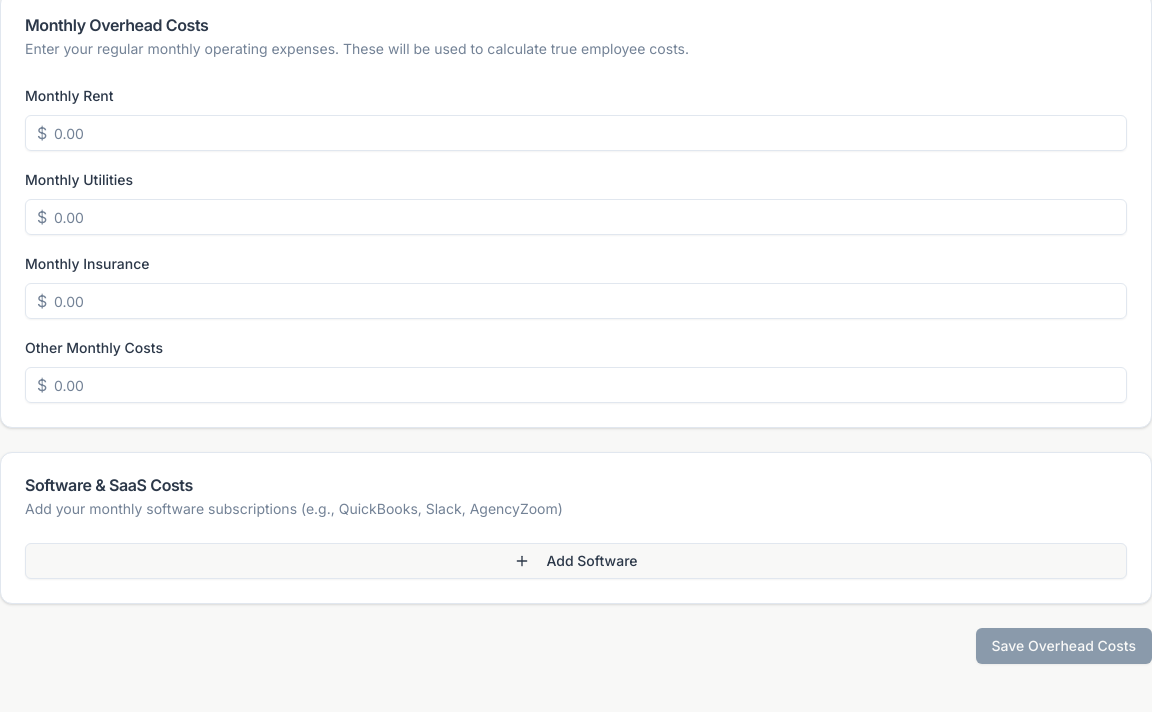
Test case: OverheadCostForm › form submission › disables save button during submission
Type "2000" into the number field labelled "Monthly Rent" at [576, 133], box x1=25 y1=115 x2=1127 y2=151
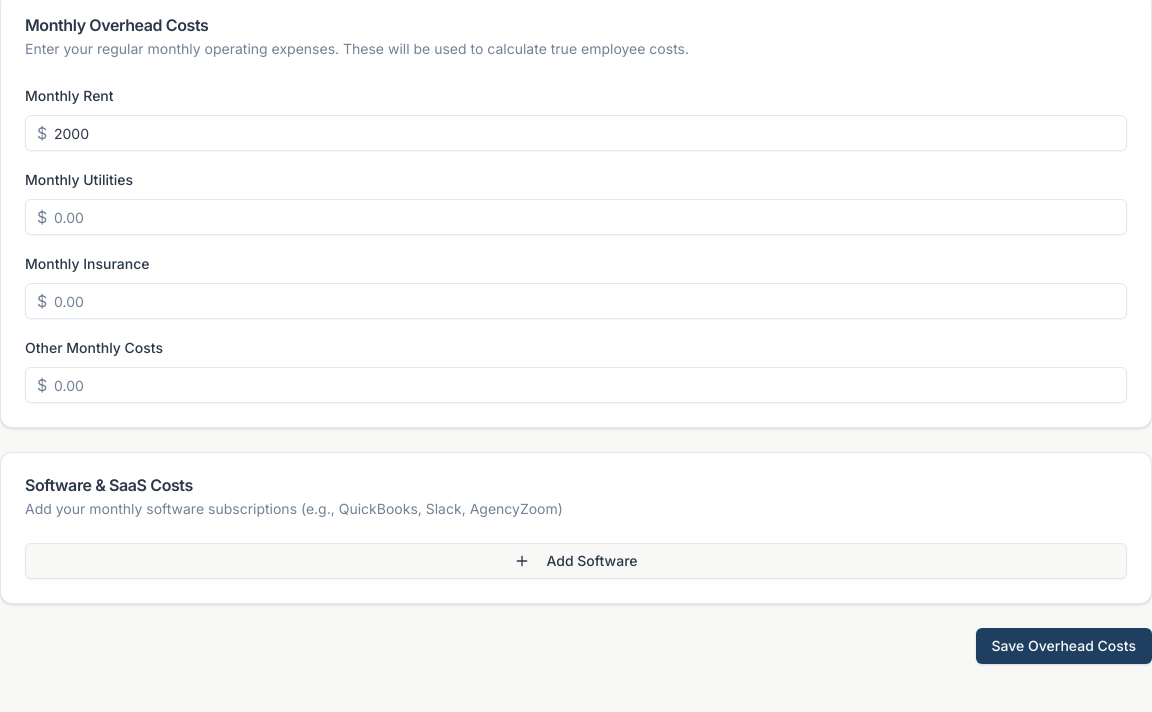
Click the button "Save Overhead Costs" at [1064, 646], box x1=976 y1=628 x2=1151 y2=664
(page scrolled)
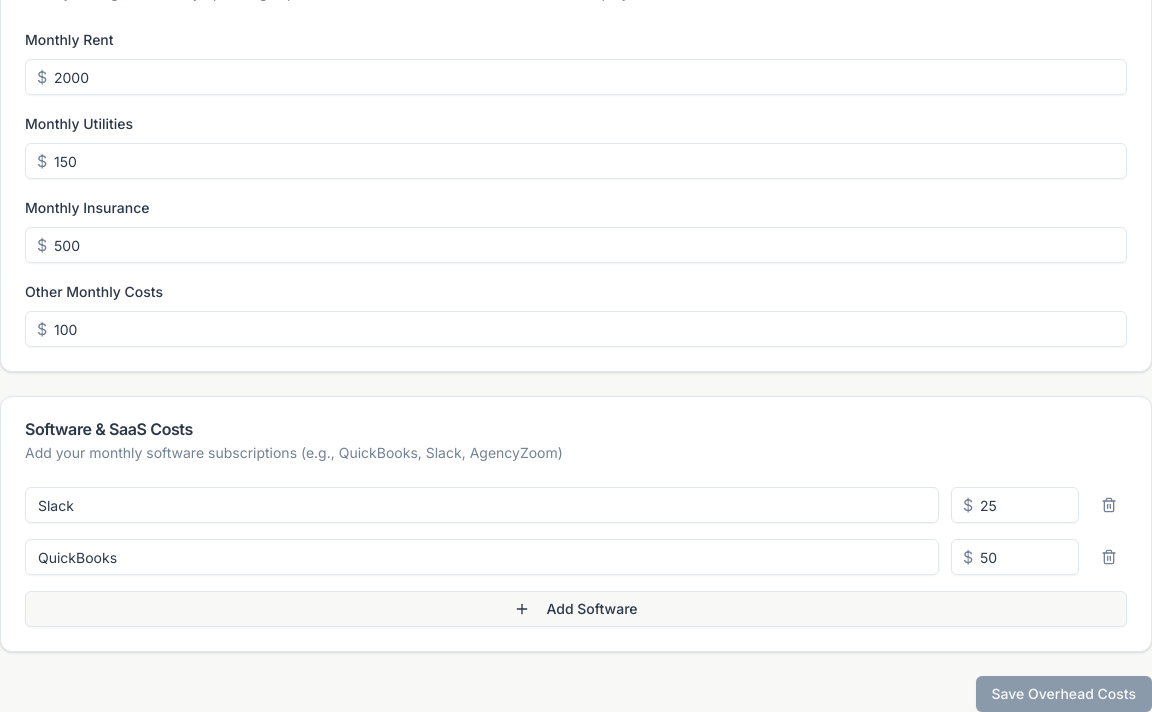
Check: the button named "Saving..." is disabled, box x1=976 y1=676 x2=1151 y2=711
